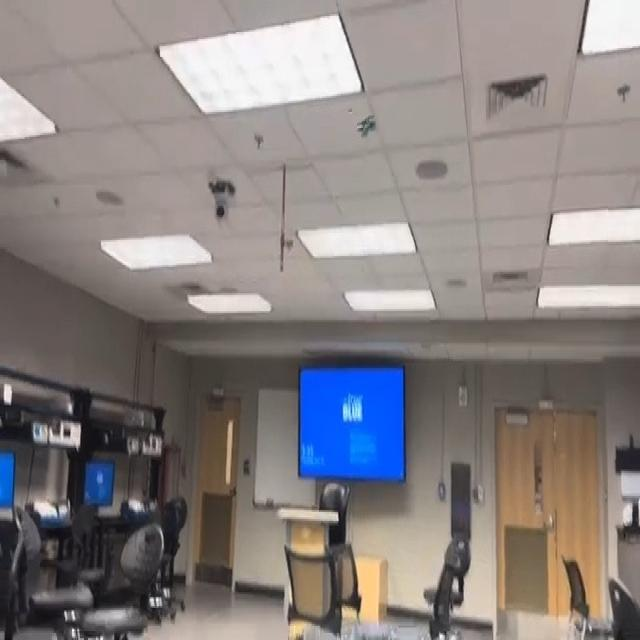drone: (351, 108, 384, 146)
